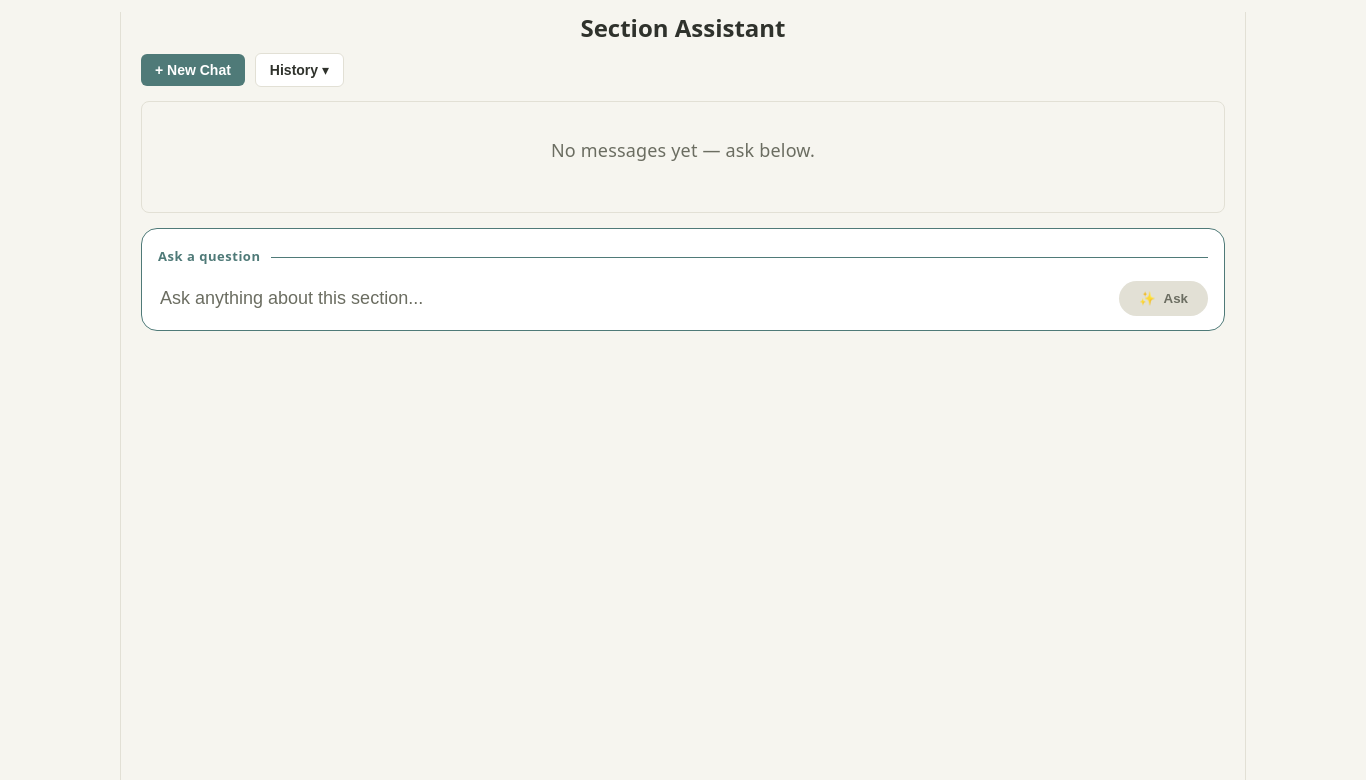
SectionAssistantPanel Component › sends message and displays it in chat history
Type "What is this section about?" into the field with placeholder "Ask anything about this section..." at (632, 299), box [158,287,1107,310]
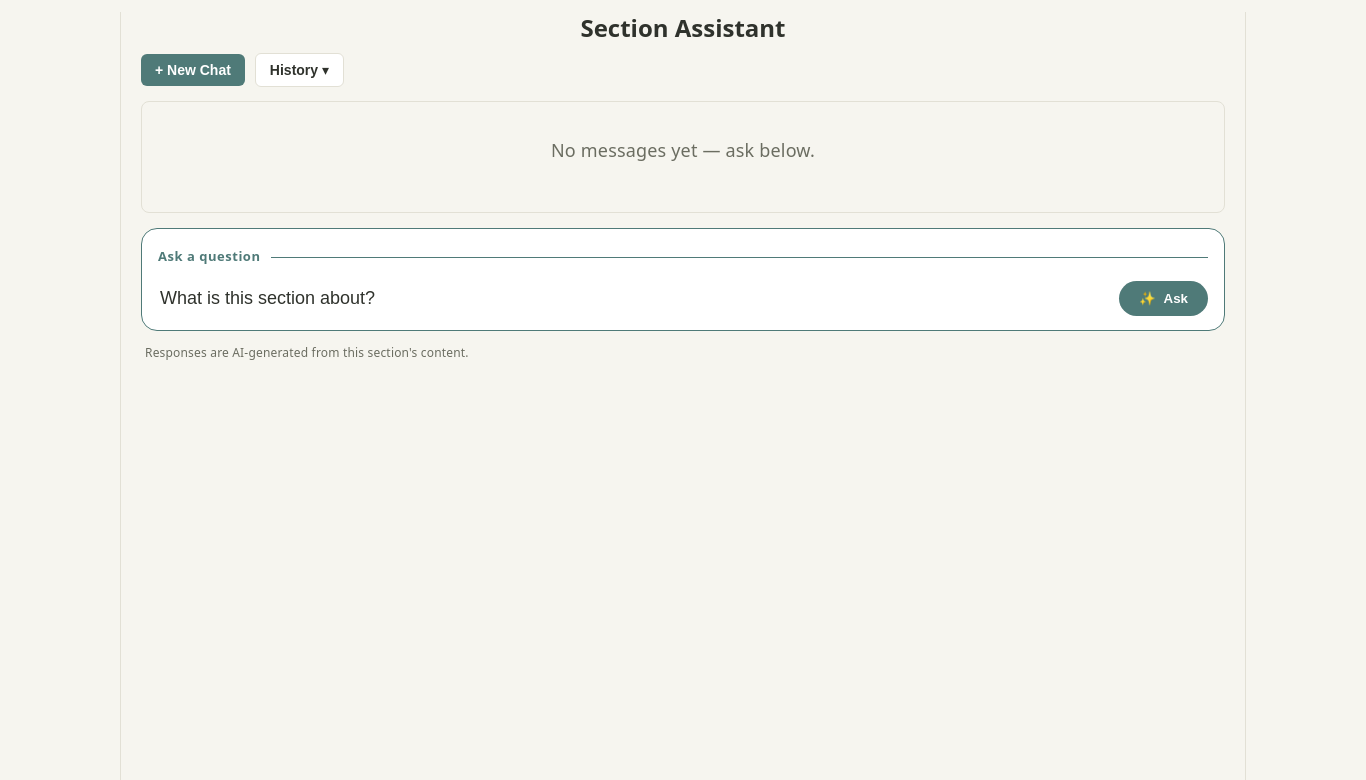
Click the button "✨ Ask" at (1163, 299), box [1119,281,1208,316]
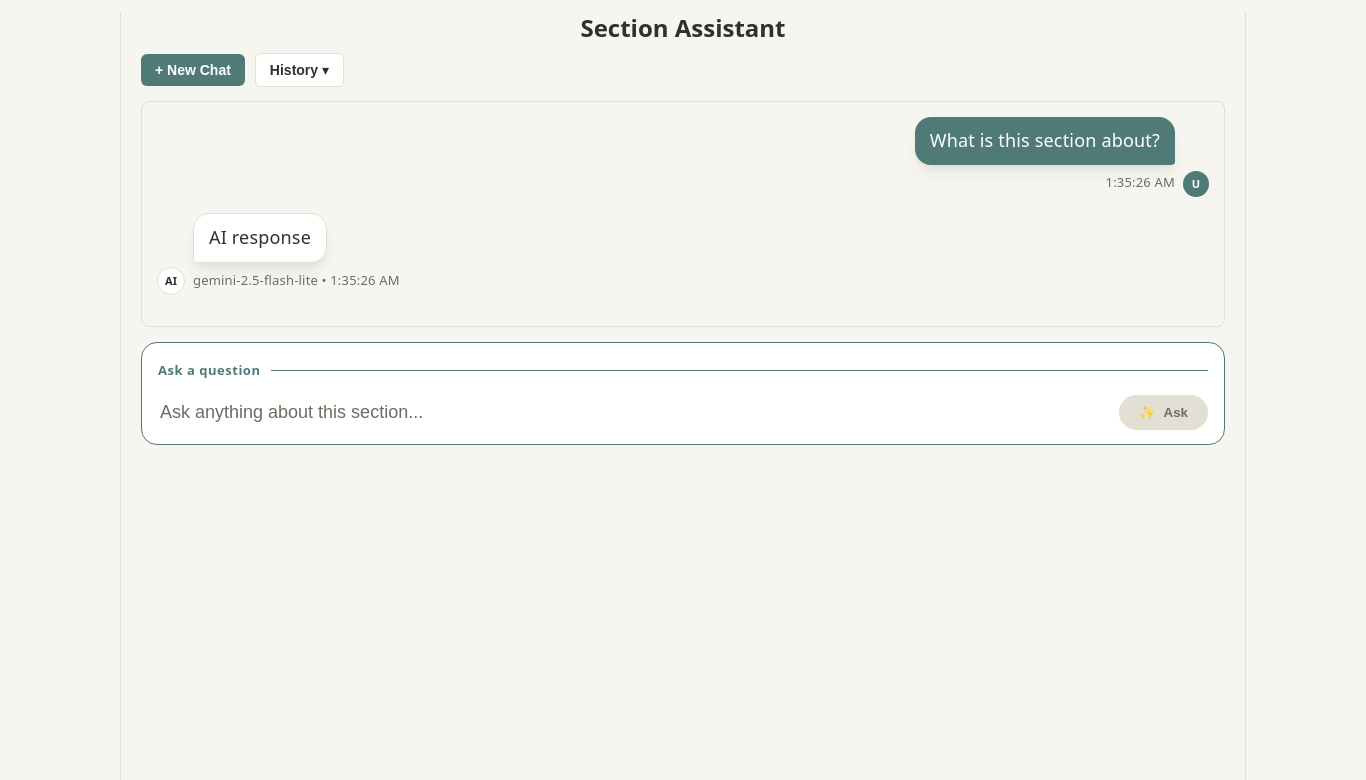
Result: the text "What is this section about?" is shown at [915,117,1175,165]
